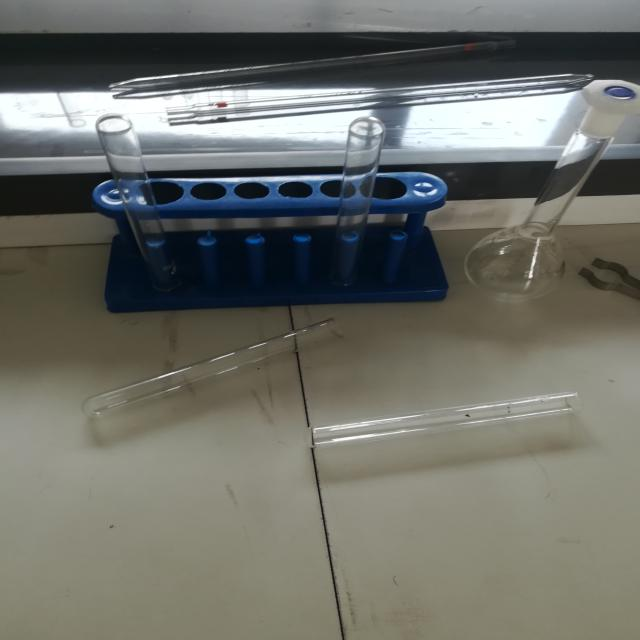Test_Tube: (67, 294, 353, 453), (76, 94, 211, 315), (272, 379, 611, 465), (290, 94, 412, 300)
Volumetric_Flask: (454, 60, 640, 304)
